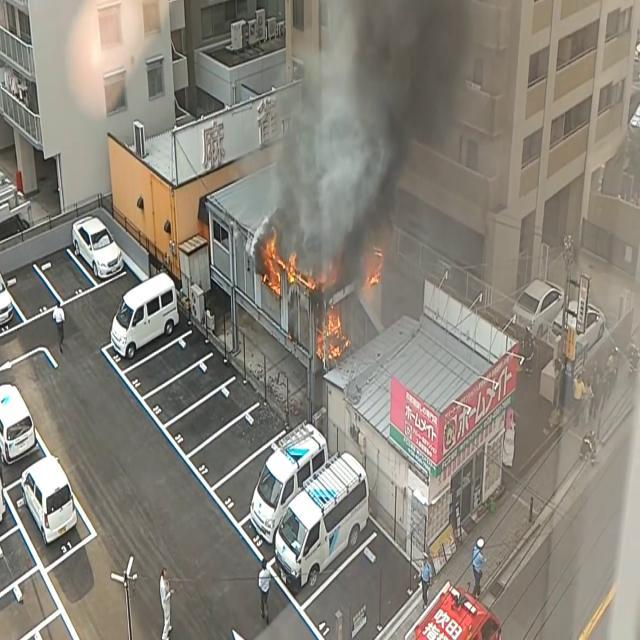Fire: (258, 232, 318, 296), (316, 294, 348, 364)
Smoke: (256, 0, 466, 291)
